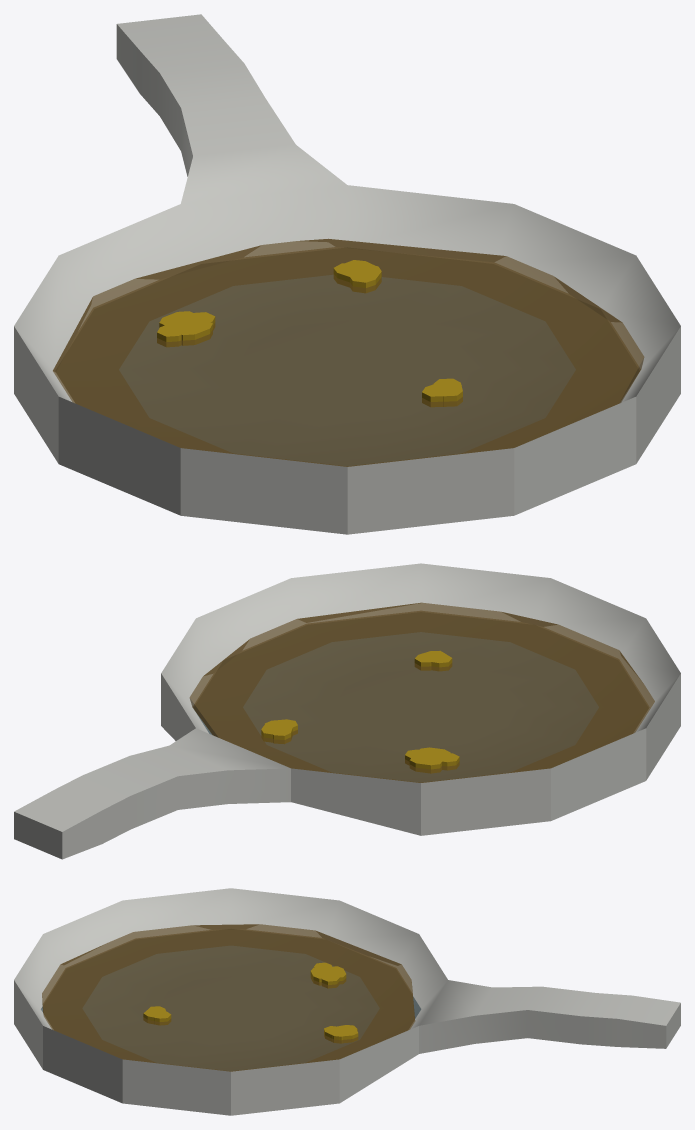
Rendered from Dirty_Pan.fbx.
3 views of the same model, one above another, from view 1: azimuth 30°, elevation 25°; view 2: azimuth 150°, elevation 25°; view 3: azimuth 270°, elevation 25° (orthographic). The views are drawn at different scales.
Visible parts, largest first — view 1: Dirty_Pan; view 2: Dirty_Pan; view 3: Dirty_Pan.
Part boxes in pixels (x1,y1,x2,y2): Dirty_Pan: (14,14,680,534); Dirty_Pan: (14,563,680,859); Dirty_Pan: (14,888,680,1115).
Size of the model in its own units: 40.24 by 6.18 by 61.8.
